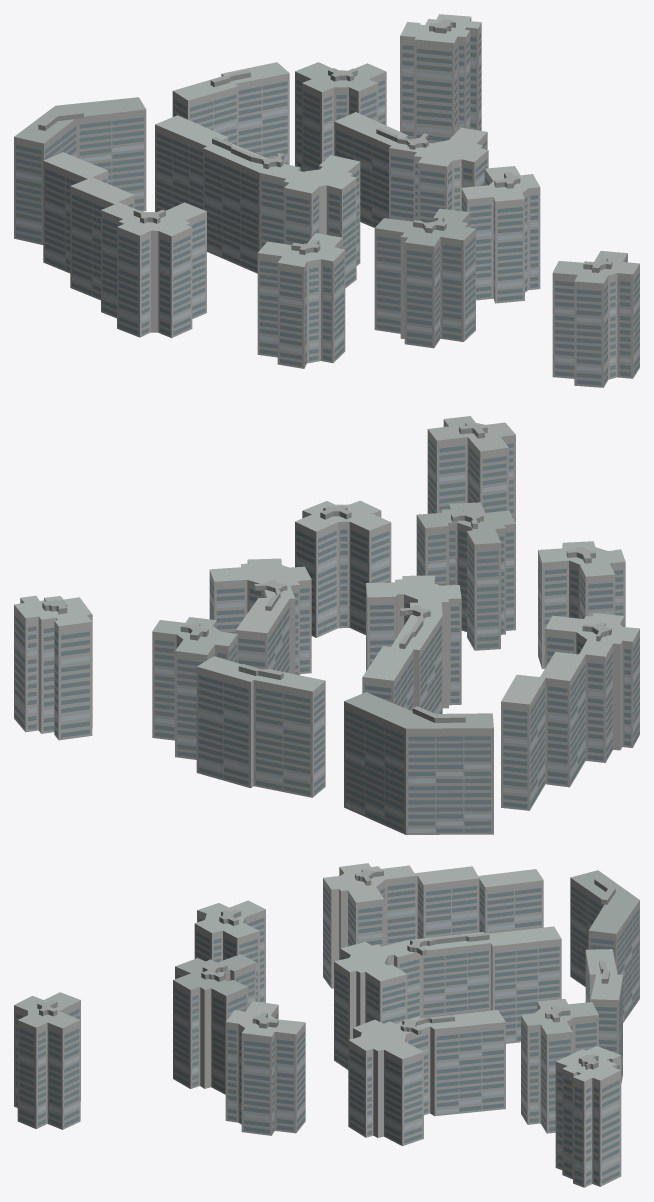
Rendered from apt-a15728004.glb.
The picture shows the model from 3 angles, top to bottom: view 1: azimuth 30°, elevation 25°; view 2: azimuth 150°, elevation 25°; view 3: azimuth 270°, elevation 25°; orthographic projection. The views are drawn at different scales.
Parts seen in each view (by area): view 1: apt-a15728004; view 2: apt-a15728004; view 3: apt-a15728004.
Part boxes in pixels (box(x1,y1,x2,y2)): apt-a15728004: box(14, 14, 639, 387); apt-a15728004: box(14, 416, 639, 834); apt-a15728004: box(14, 863, 639, 1187).
Bounding box in the file's own units: 191 × 44 × 224.
